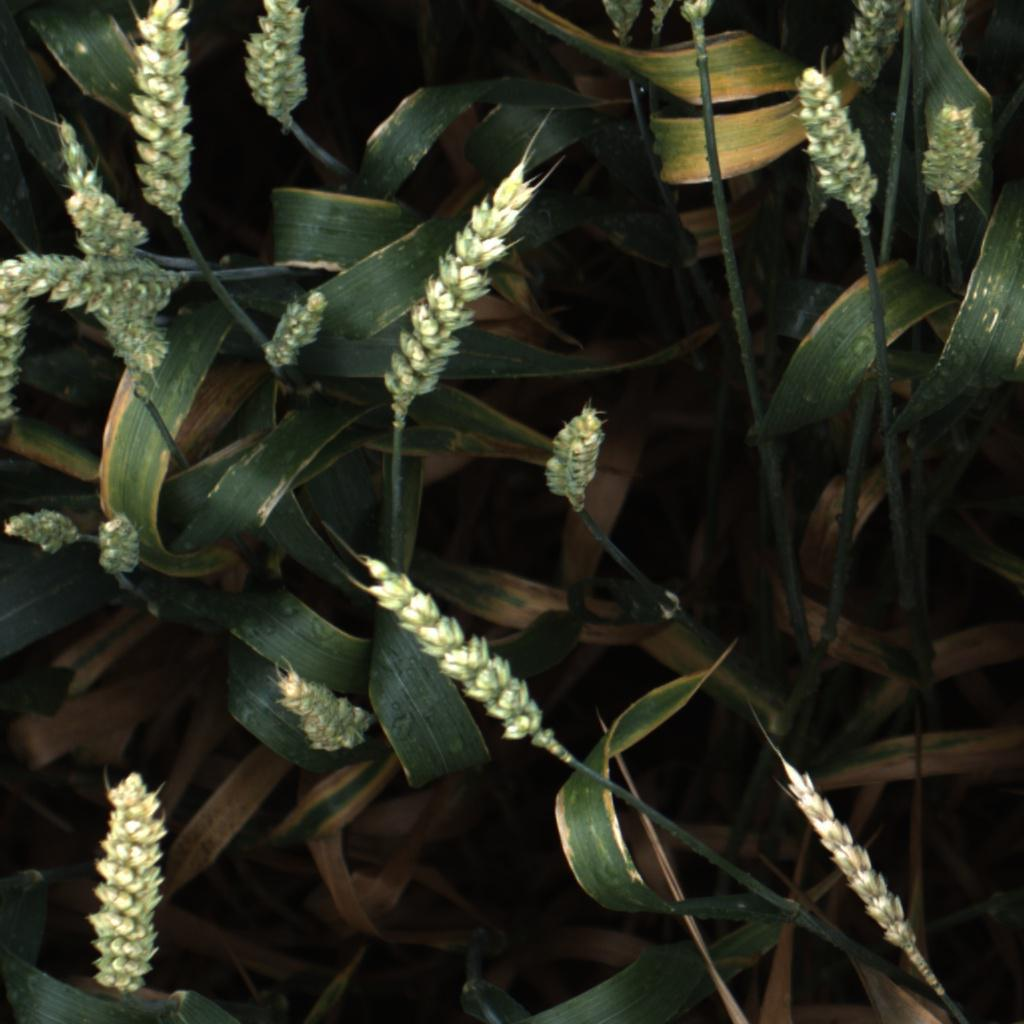0-0: (375, 157, 536, 411), (365, 544, 572, 738), (765, 744, 925, 960), (79, 768, 175, 1004), (772, 64, 887, 229), (128, 0, 207, 214), (12, 251, 204, 326), (267, 653, 376, 755), (240, 0, 319, 140), (62, 173, 159, 278), (1, 254, 51, 432), (920, 96, 994, 206), (542, 404, 613, 510), (259, 281, 335, 373), (829, 0, 915, 81), (86, 310, 179, 381), (5, 498, 86, 561), (92, 503, 147, 582), (932, 1, 973, 66)
